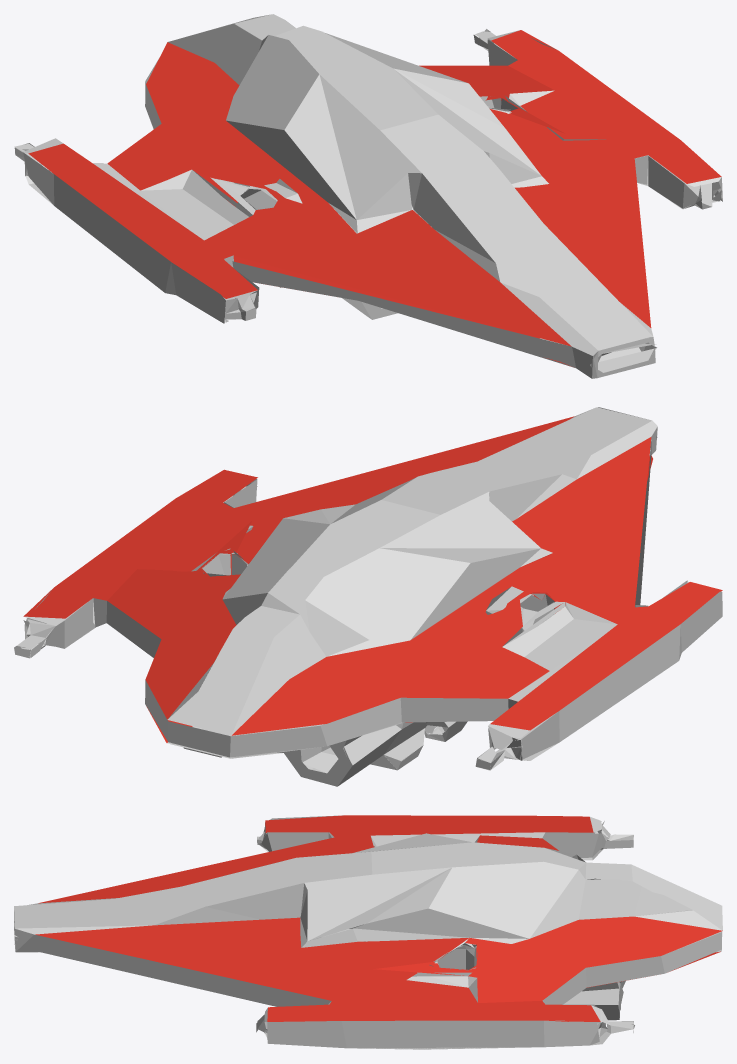
File: SetReachInterceptorT2.glb
3 views of the same model, one above another, from view 1: azimuth 30°, elevation 25°; view 2: azimuth 150°, elevation 25°; view 3: azimuth 270°, elevation 25° (orthographic). The views are drawn at different scales.
Parts seen in each view (by area): view 1: Starfighter; view 2: Starfighter; view 3: Starfighter.
Boxes of the visible parts, bbox=[...] form: Starfighter: bbox=[14, 14, 722, 378]; Starfighter: bbox=[14, 407, 722, 786]; Starfighter: bbox=[14, 815, 722, 1049].
Size of the model in its own units: 43.44 by 14.95 by 62.71.
